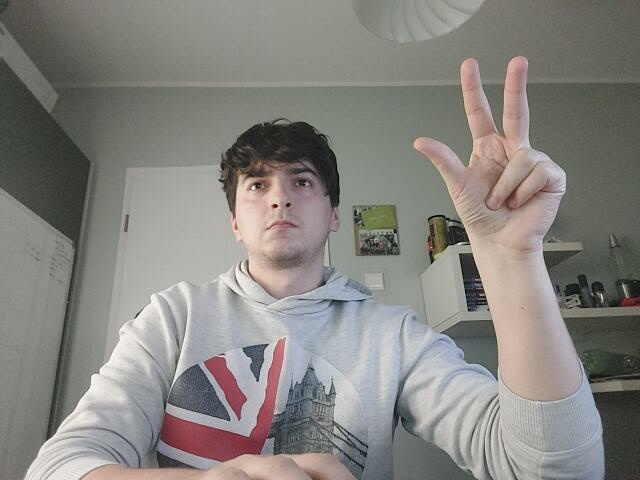no: (414, 58, 567, 244)
